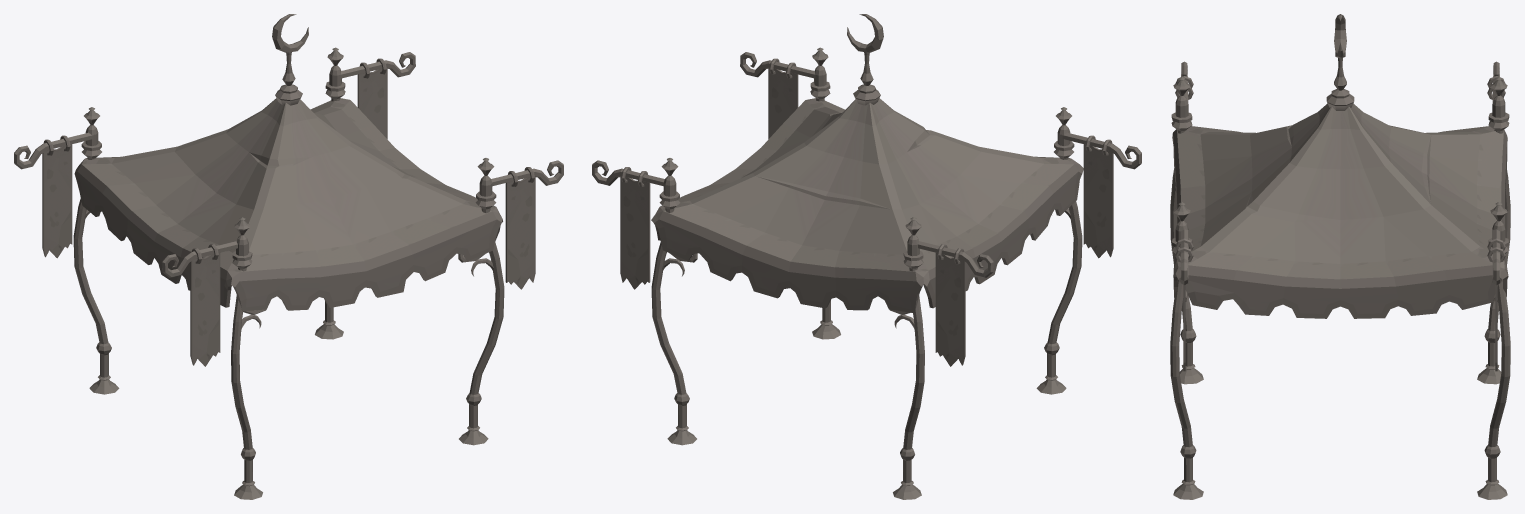
The model's file is el_bld_siegeyard.gltf.
The picture shows the model from 3 angles, left to right: view 1: azimuth 30°, elevation 25°; view 2: azimuth 150°, elevation 25°; view 3: azimuth 270°, elevation 25°; orthographic projection. The views are drawn at different scales.
Parts seen in each view (by area): view 1: el_bld_siegeyard; view 2: el_bld_siegeyard; view 3: el_bld_siegeyard.
Boxes of the visible parts, x1,y1,x2,y2 form: el_bld_siegeyard: [14, 14, 563, 499]; el_bld_siegeyard: [592, 14, 1141, 499]; el_bld_siegeyard: [1170, 14, 1510, 499].
Bounding box in the file's own units: 4.67 × 4.44 × 3.26.
Materials: 1 (1 with a texture image).
